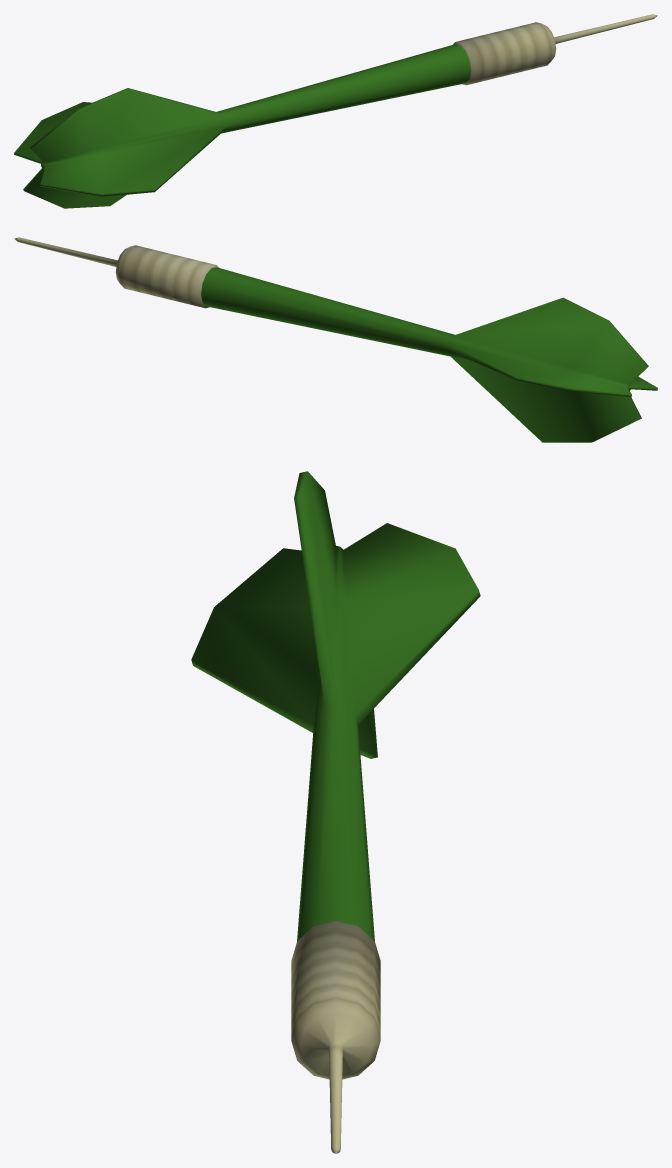
Rendered from dart.obj.
The picture shows the model from 3 angles, top to bottom: view 1: azimuth 30°, elevation 25°; view 2: azimuth 150°, elevation 25°; view 3: azimuth 270°, elevation 25°; orthographic projection. The views are drawn at different scales.
Visible parts, largest first — view 1: Cylinder.004; view 2: Cylinder.004; view 3: Cylinder.004.
Part boxes in pixels (bbox=[...]): Cylinder.004: bbox=[14, 14, 657, 208]; Cylinder.004: bbox=[14, 237, 657, 442]; Cylinder.004: bbox=[191, 471, 480, 1153].
Bounding box in the file's own units: 0.16 × 0.0318 × 0.0318.
2 materials, 1 textured.
